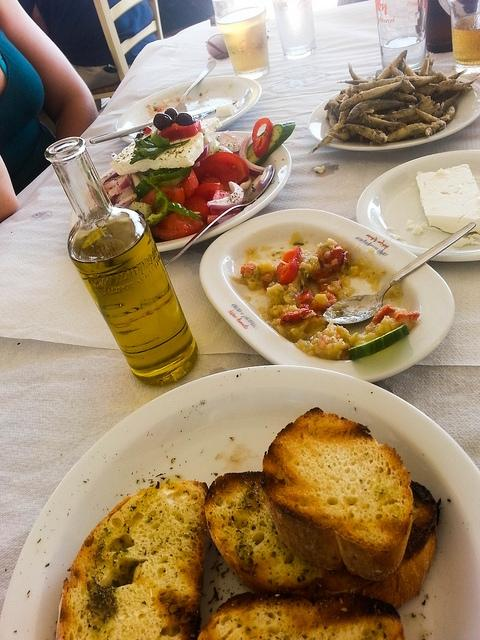cucumber: (246, 121, 296, 166), (349, 324, 409, 361)
tomato: (191, 151, 249, 191), (150, 213, 206, 240), (142, 186, 185, 216), (277, 247, 302, 284), (159, 121, 201, 142), (253, 118, 274, 158), (183, 195, 211, 222), (192, 182, 226, 202), (322, 248, 349, 272), (280, 308, 312, 326), (180, 168, 198, 198), (372, 304, 395, 325), (312, 268, 329, 282), (300, 290, 314, 306), (408, 310, 420, 320), (144, 126, 152, 134)
